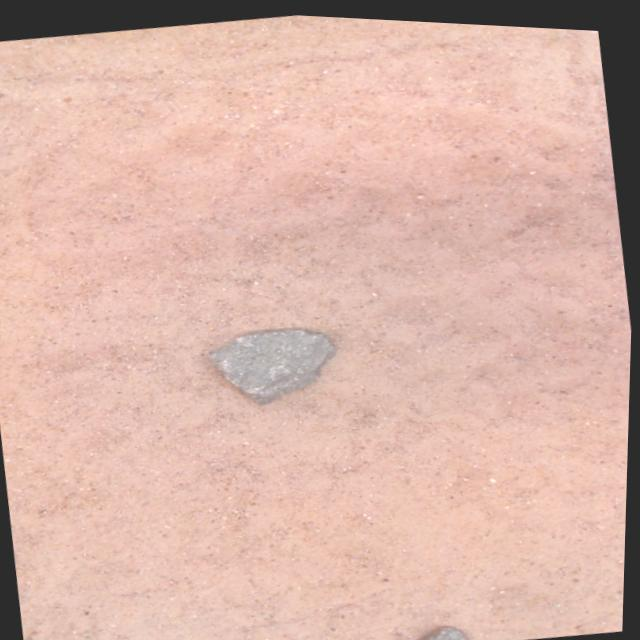rock: (210, 327, 334, 401), (413, 622, 472, 640)
